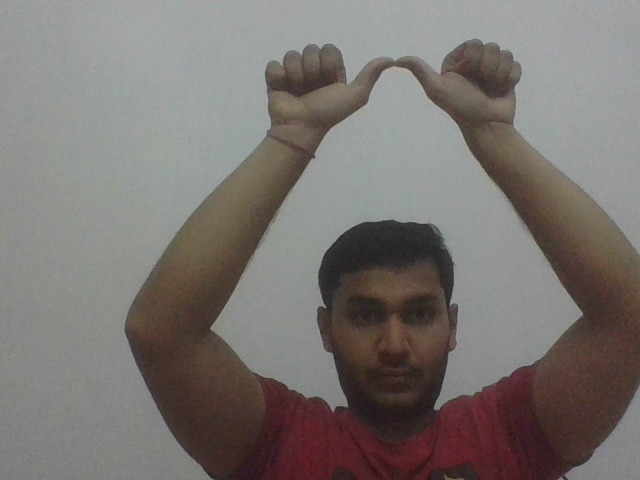A: (259, 36, 526, 123)
